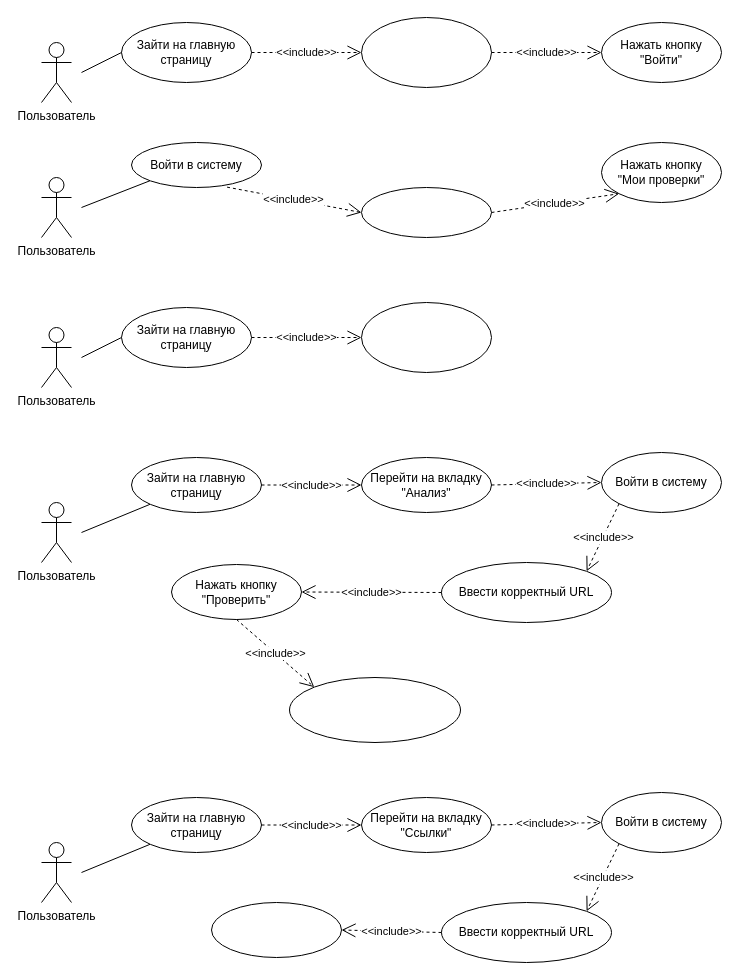
Some shapes in this 739 by 980 pixel diagram are drawn without their labels. The centre of each missing label's shape, as x and y in pixels:
Ввести корректный логин и пароль: (x=426, y=52)
Нажать кнопку "Найти": (x=276, y=930)
Перейти в аккаунт: (x=426, y=212)
Перейти на вкладку "Рекомендации": (x=426, y=337)
Посмотреть любую из предлагаемых вкладок: (x=374, y=709)
